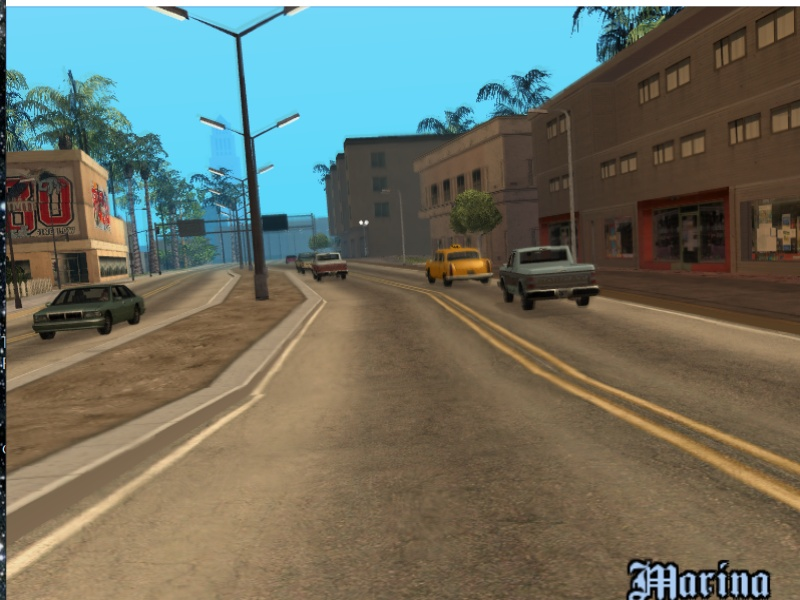pole: (222, 26, 282, 300), (556, 105, 586, 255), (237, 180, 255, 272), (397, 191, 408, 267)
vehicle: (495, 241, 603, 312), (30, 285, 149, 335), (424, 245, 493, 293), (312, 251, 352, 283), (294, 253, 314, 272)
